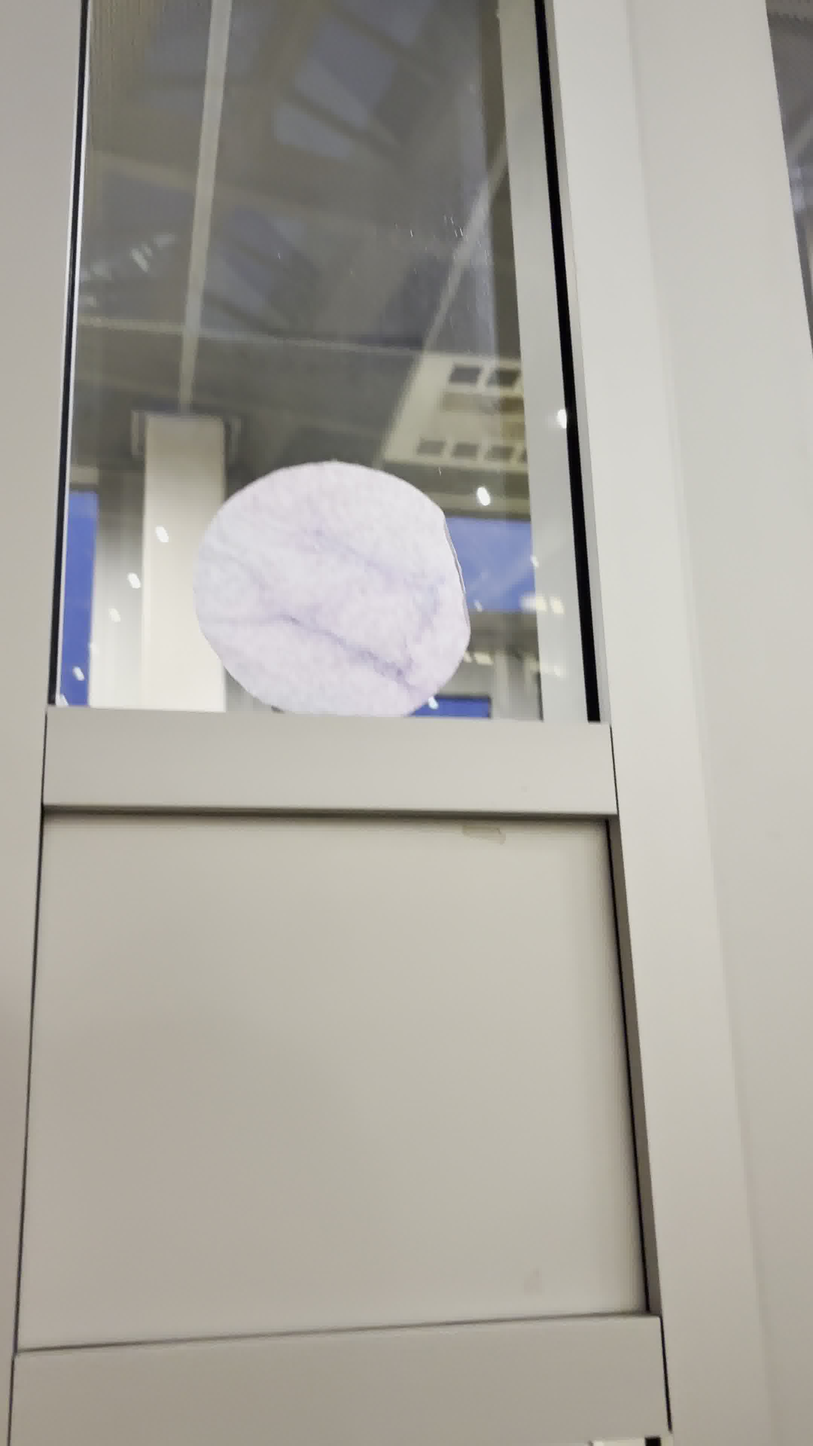Target: (189, 460, 471, 717)
